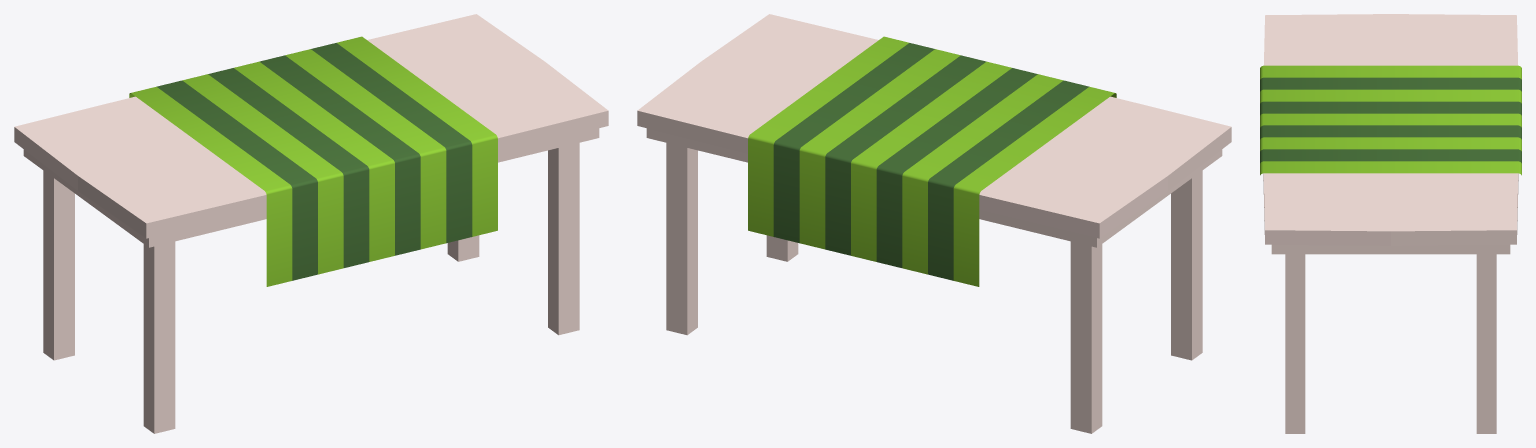
The model's file is Prop_Table_16.fbx.
The picture shows the model from 3 angles, left to right: view 1: azimuth 30°, elevation 25°; view 2: azimuth 150°, elevation 25°; view 3: azimuth 270°, elevation 25°; orthographic projection. The views are drawn at different scales.
Visible parts, largest first — view 1: Prop_Table_16; view 2: Prop_Table_16; view 3: Prop_Table_16.
Part boxes in pixels (left/top/right/bottom): Prop_Table_16: left=14, top=14, right=608, bottom=433; Prop_Table_16: left=637, top=14, right=1231, bottom=433; Prop_Table_16: left=1260, top=14, right=1521, bottom=433.
Size of the model in its own units: 200 by 92.9 by 102.
